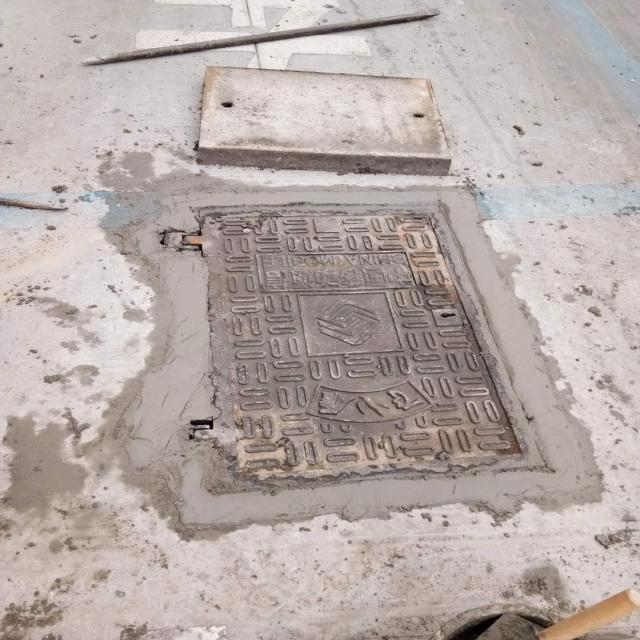Good: (164, 202, 556, 487)
